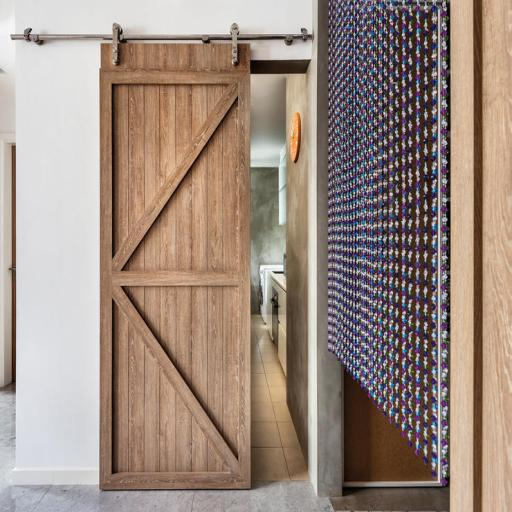Door: (99, 40, 250, 490)
